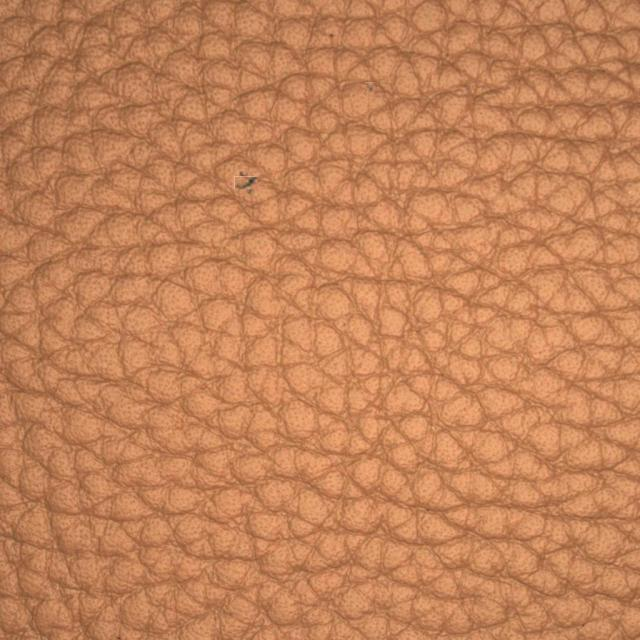Scratch: (138, 144, 354, 235)
